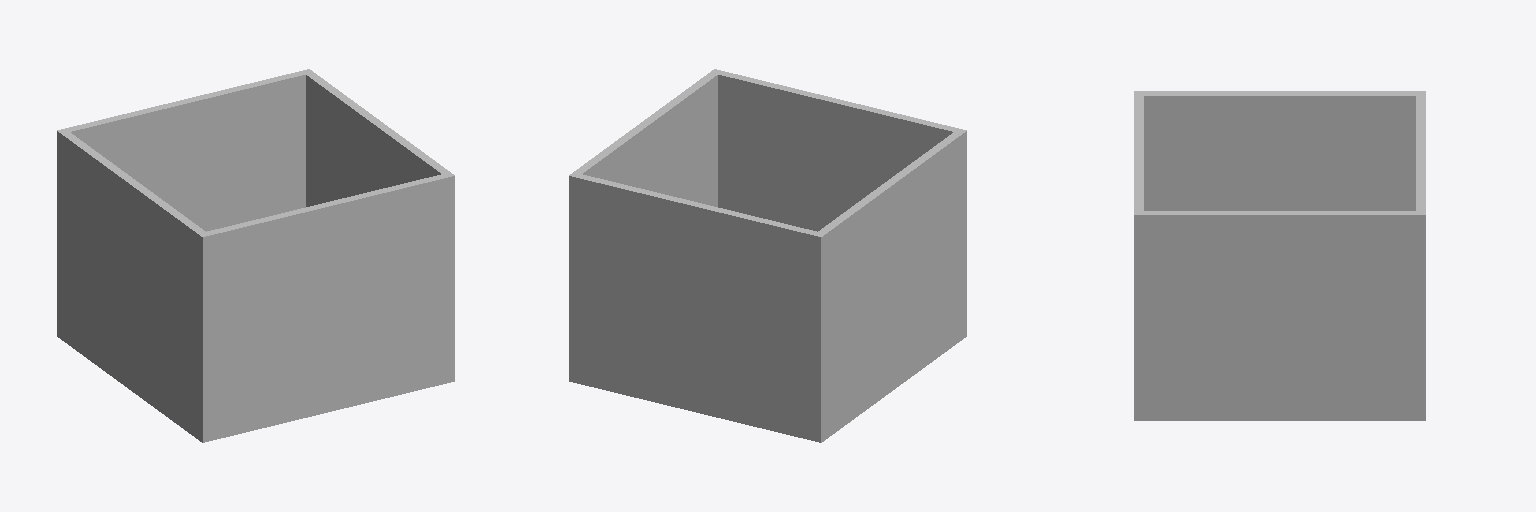
Rendered from inventory_box_two.obj.
3 renders of one model, left to right at view 1: azimuth 30°, elevation 25°; view 2: azimuth 150°, elevation 25°; view 3: azimuth 270°, elevation 25°, orthographic.
Parts seen in each view (by area): view 1: Body1; view 2: Body1; view 3: Body1.
Boxes of the visible parts, x1,y1,x2,y2 form: Body1: [57, 69, 454, 442]; Body1: [569, 69, 966, 442]; Body1: [1134, 91, 1425, 420].
Size of the model in its own units: 0.9 by 0.7 by 0.9.